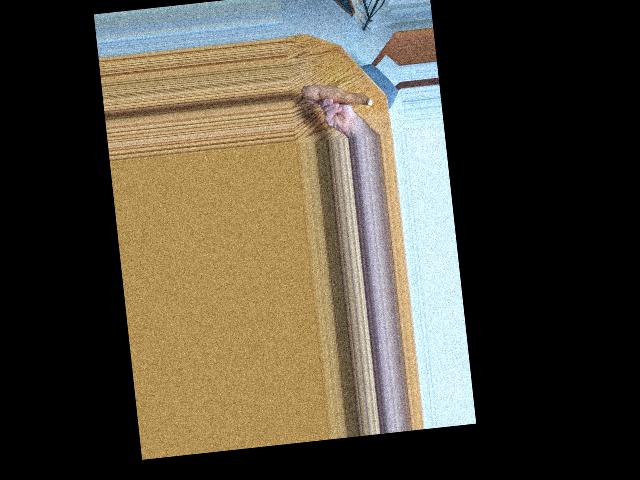sweet_potato: (299, 77, 373, 115)
